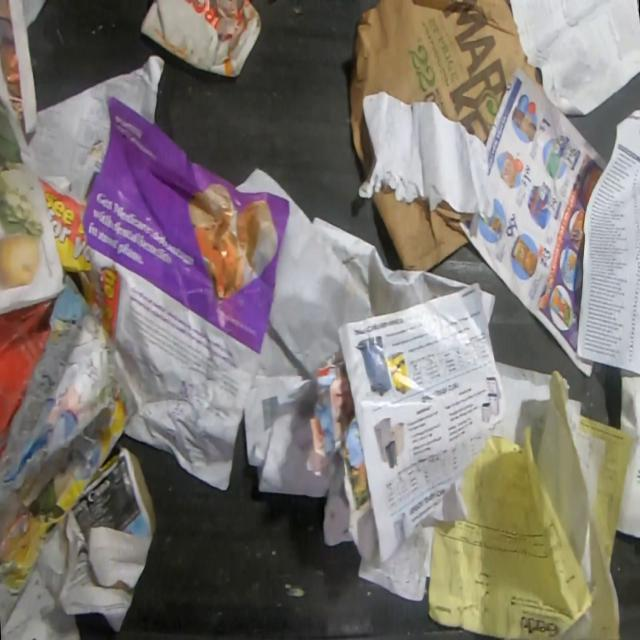cardboard: (348, 1, 544, 182), (140, 0, 263, 79), (371, 185, 474, 271)
